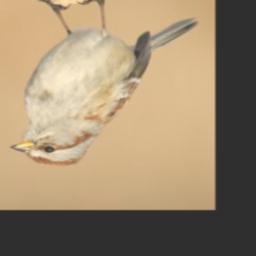Sparrow: (7, 0, 201, 168)
